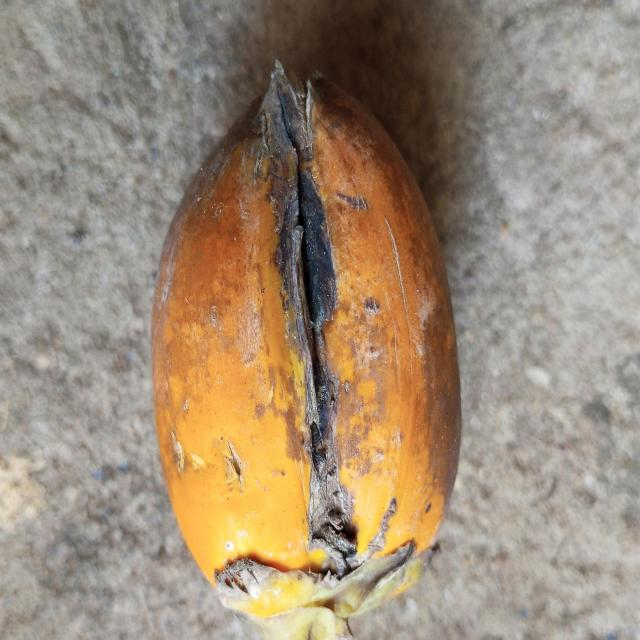damaged: (152, 62, 460, 640)
